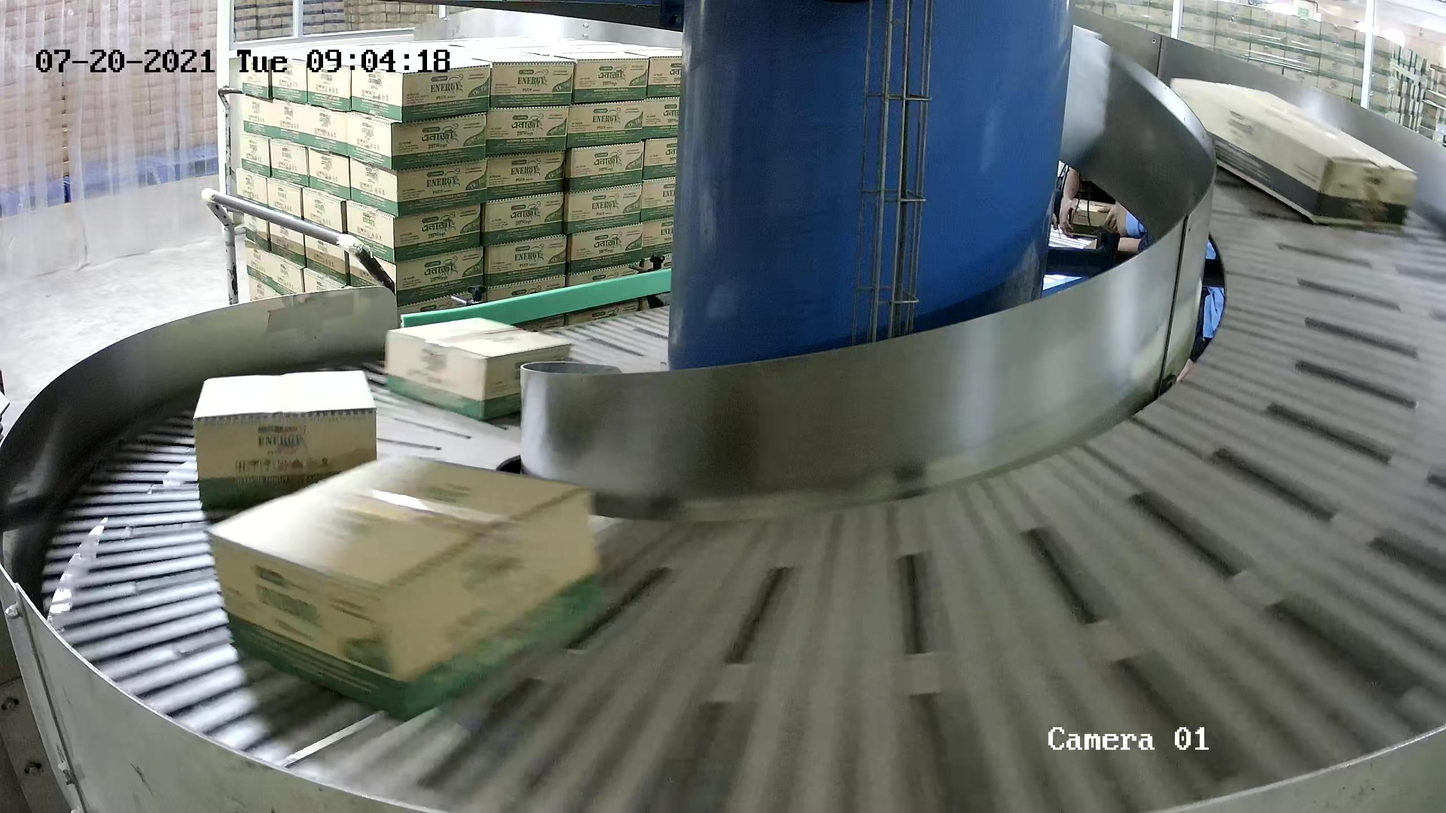Box: (202, 449, 613, 723), (1167, 75, 1421, 232), (192, 367, 380, 507), (383, 314, 573, 422)
